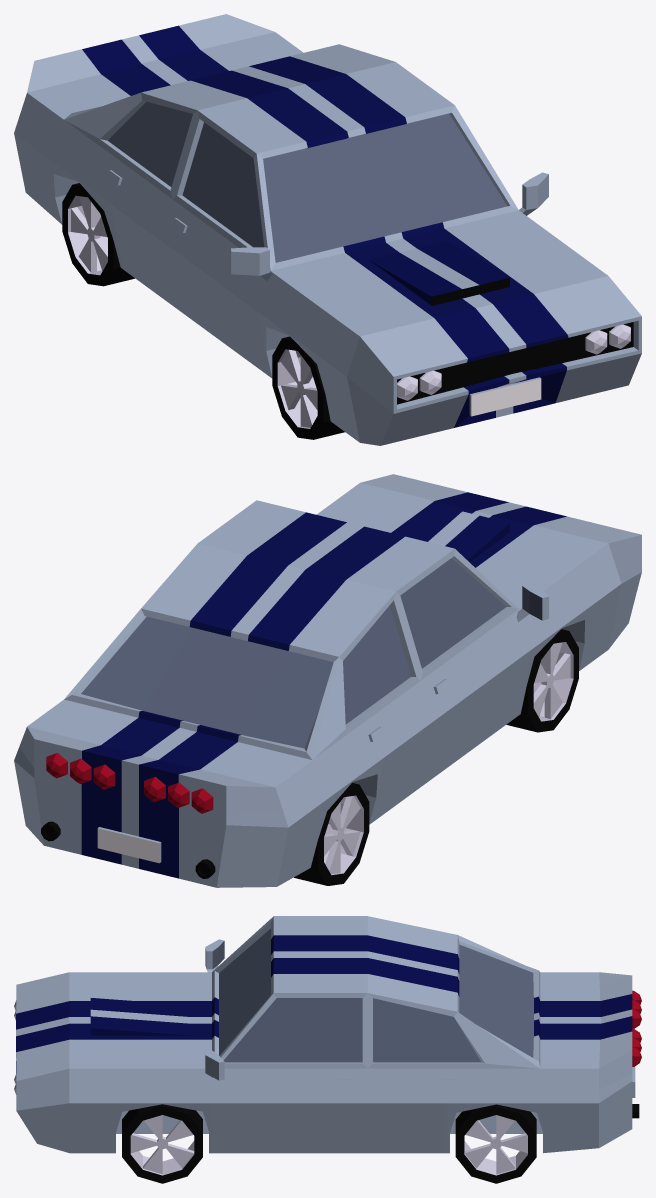
The model's file is Muscle 2.glb.
3 views of the same model, one above another, from view 1: azimuth 30°, elevation 25°; view 2: azimuth 150°, elevation 25°; view 3: azimuth 270°, elevation 25° (orthographic). The views are drawn at different scales.
Visible parts, largest first — view 1: Muscle 2; view 2: Muscle 2; view 3: Muscle 2.
Part boxes in pixels (x1=…): Muscle 2: x1=14, y1=14, x2=641, y2=445; Muscle 2: x1=14, y1=474, x2=641, y2=887; Muscle 2: x1=14, y1=916, x2=641, y2=1183.
Size of the model in its own units: 0.6168 by 0.4188 by 1.33.
